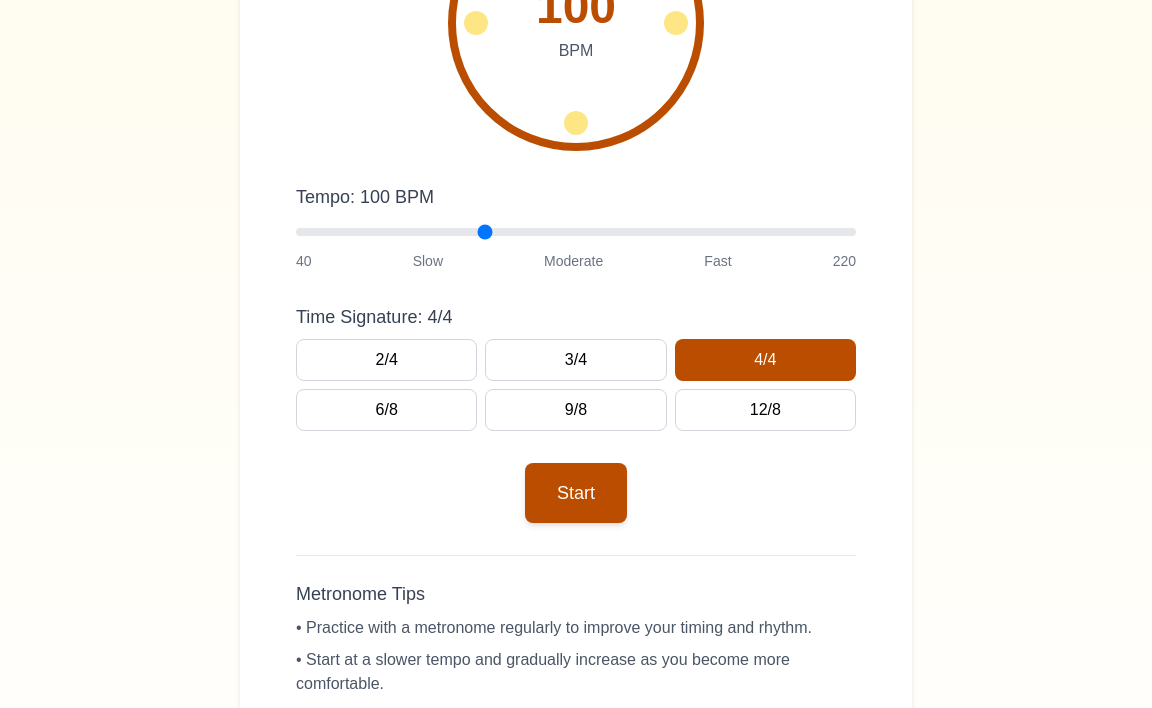
it: Metronome › switches time signatures
(page scrolled)
Click the button "3/4": click(576, 360) [485,339,666,381]
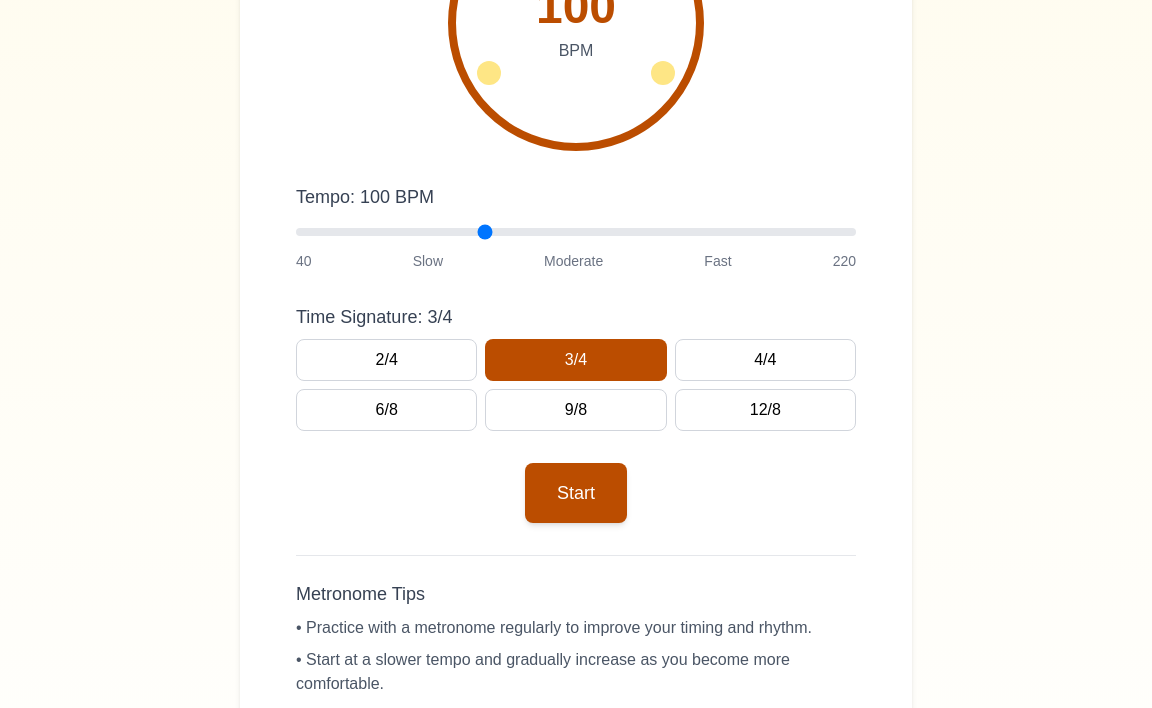
Result: the text "Time Signature: 3/4" is shown at [296,307,452,327]
